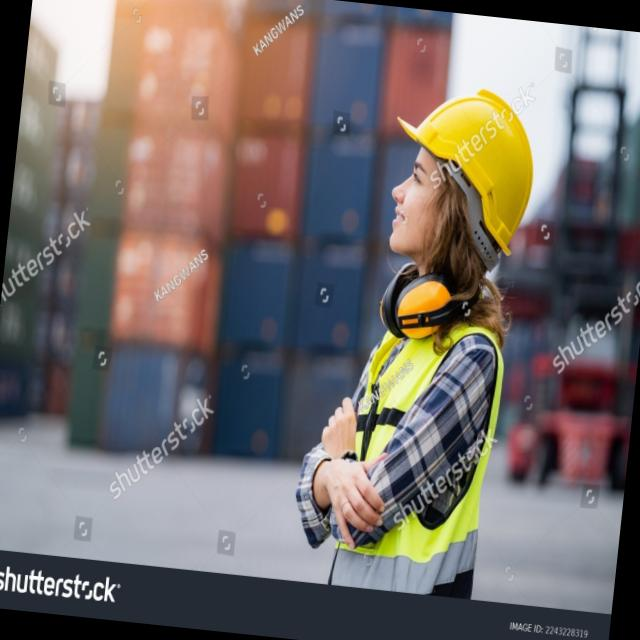helmet: (381, 77, 543, 246)
no-goggles: (392, 148, 478, 222)
vest: (332, 318, 513, 555)
